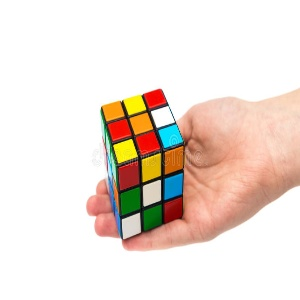cube: (99, 88, 186, 240)
